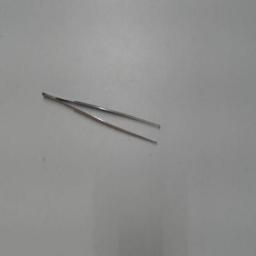Gillies Toothed Dissector: (42, 86, 168, 154)
